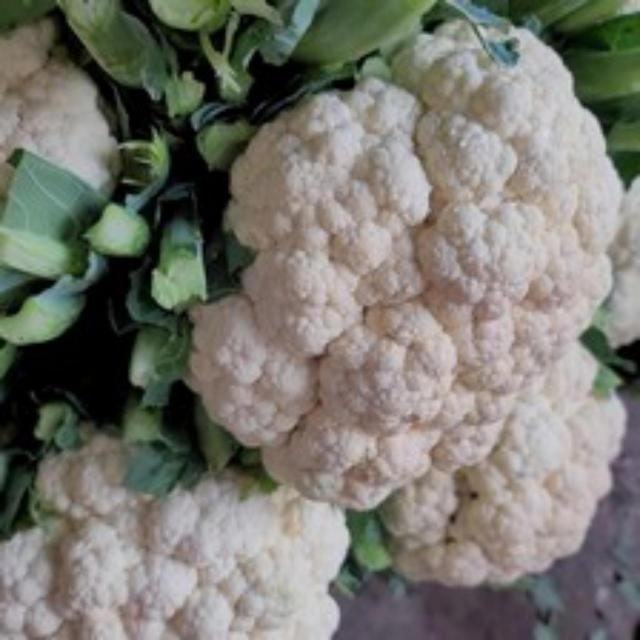cauliflower: (186, 17, 636, 591)
